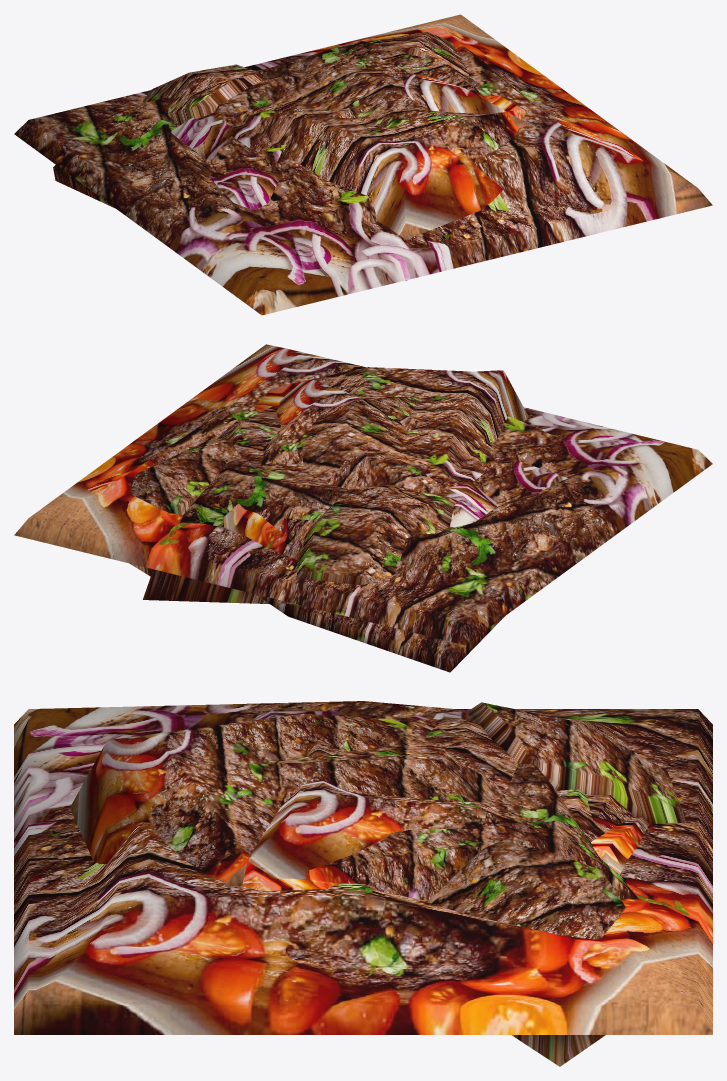
The model's file is SM_FoodServignTableClump_Beans.fbx.
3 renders of one model, top to bottom at view 1: azimuth 30°, elevation 25°; view 2: azimuth 150°, elevation 25°; view 3: azimuth 270°, elevation 25°, orthographic. The views are drawn at different scales.
Parts seen in each view (by area): view 1: FoodClump_Beans; view 2: FoodClump_Beans; view 3: FoodClump_Beans.
Part boxes in pixels (x1=…): FoodClump_Beans: x1=14, y1=14, x2=712, y2=315; FoodClump_Beans: x1=14, y1=344, x2=712, y2=672; FoodClump_Beans: x1=14, y1=701, x2=712, y2=1066.
Size of the model in its own units: 36.97 by 35.19 by 10.56.
1 material, 1 textured.
